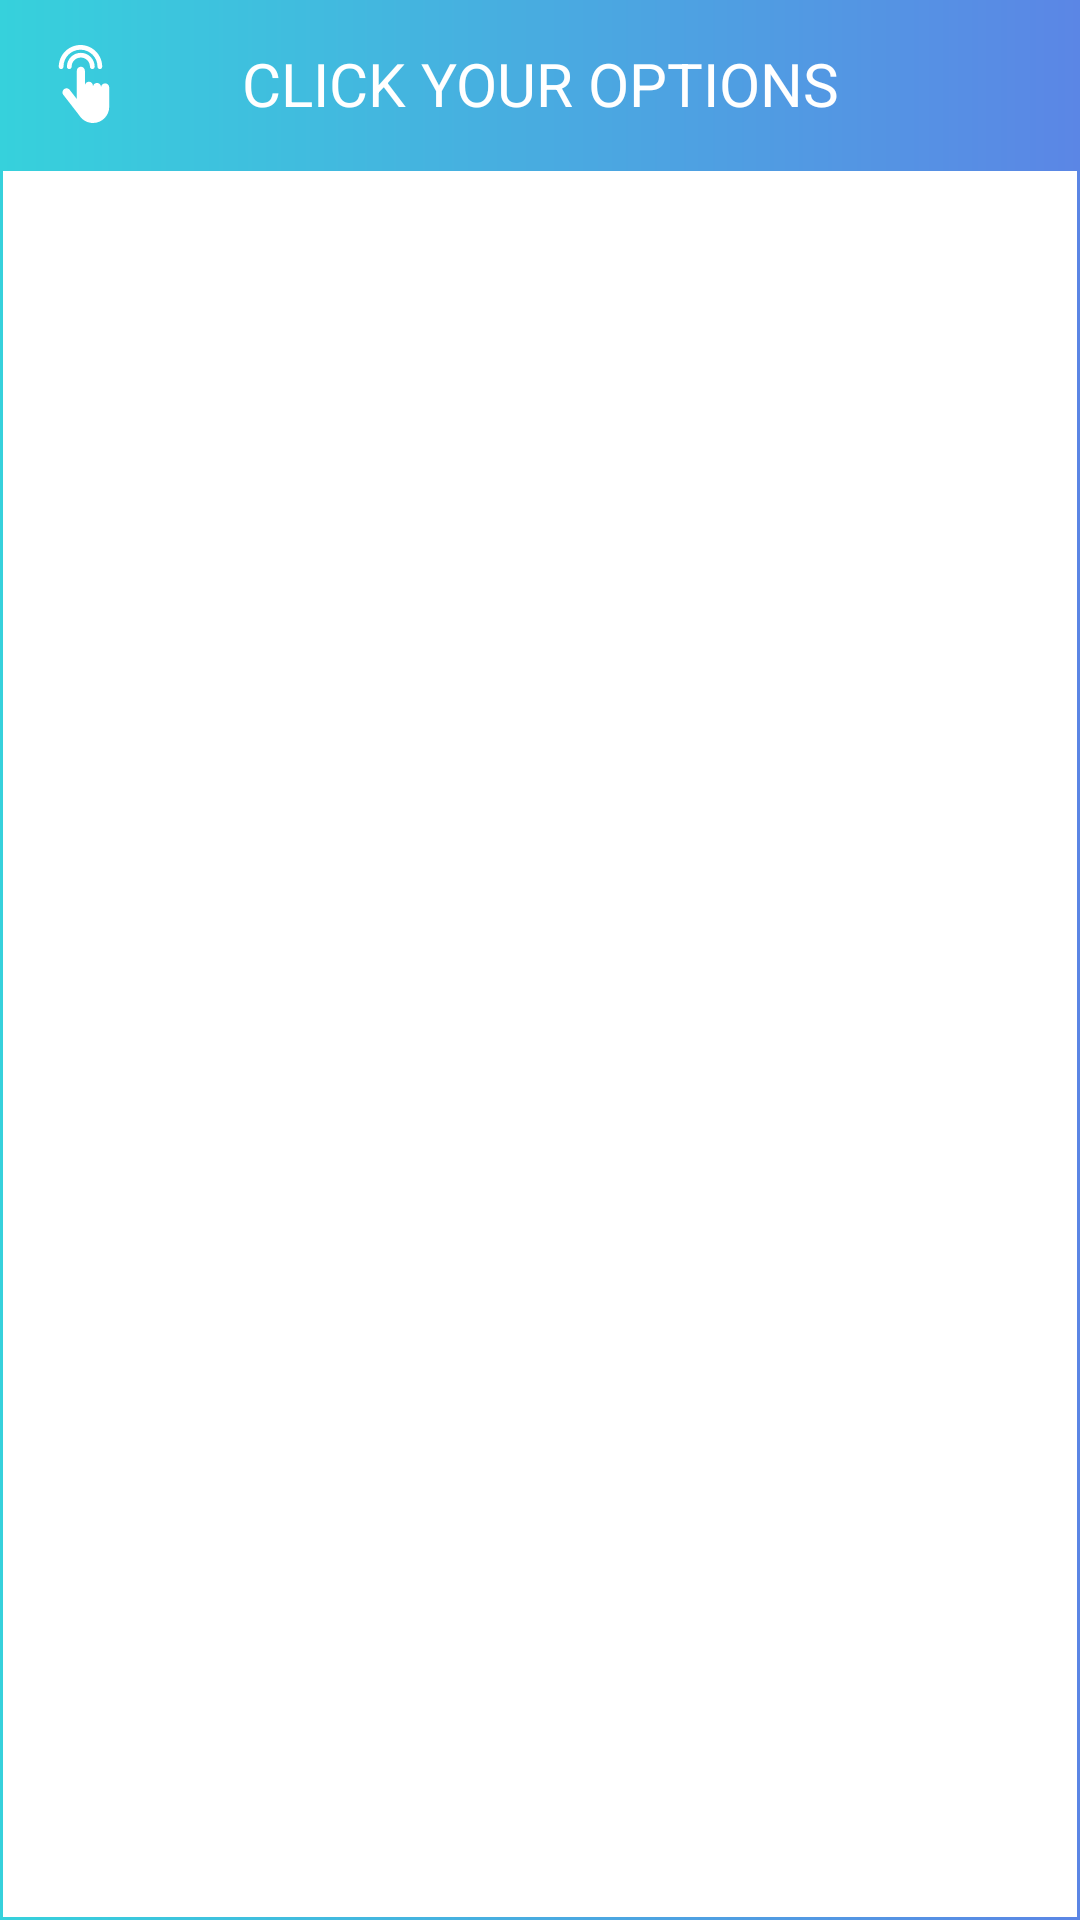

Screen size 1080w x 1920h. Icon name, then its box in pixels as [x1=x1, y1=y1, x2=x2, y2=y2]:
tactile: [x1=58, y1=45, x2=110, y2=123]
